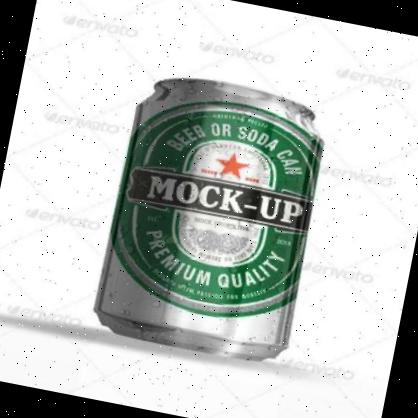can: (91, 64, 337, 372)
